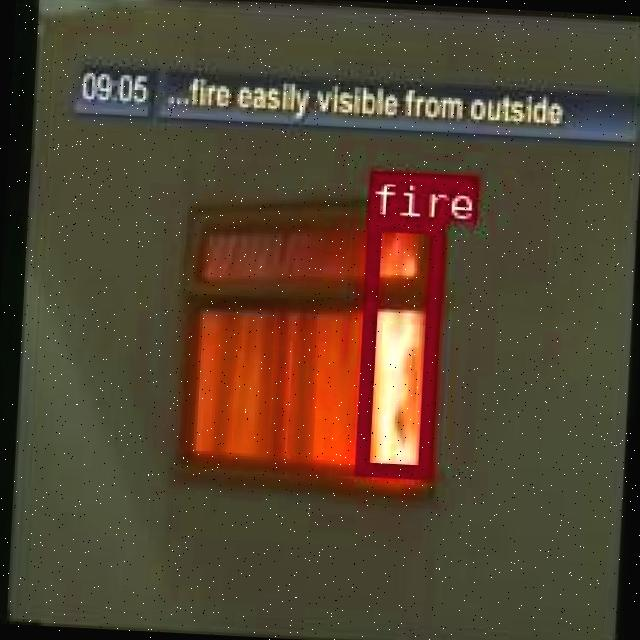fire: (354, 214, 441, 477)
